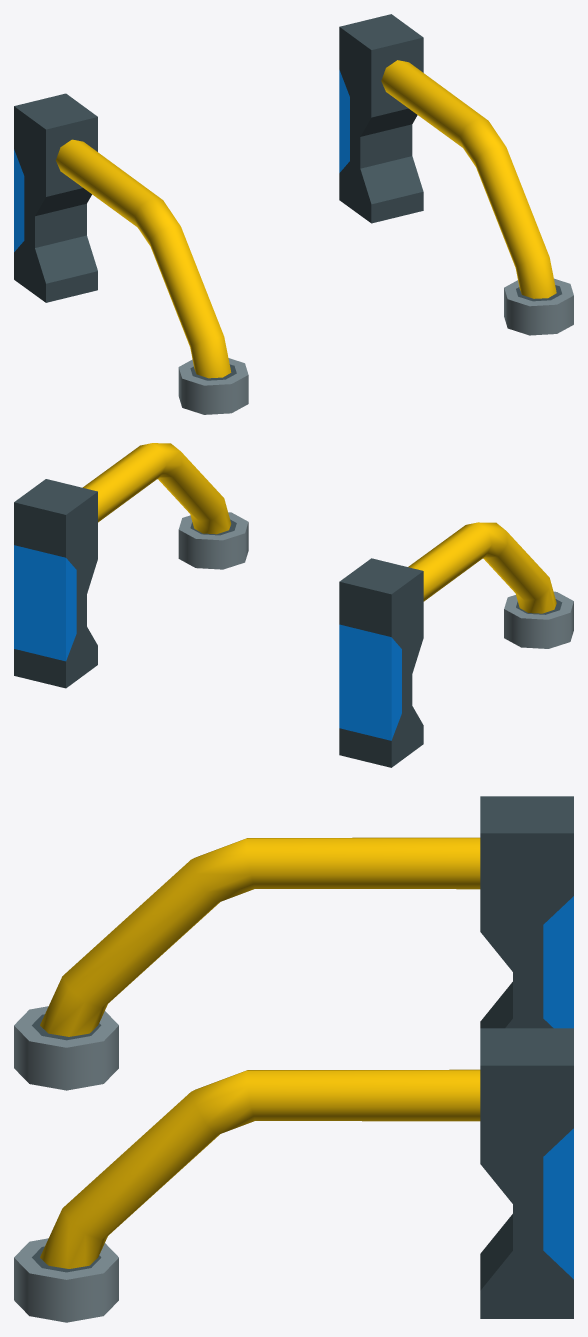
File: Ladder_handle_003.glb
3 views of the same model, one above another, from view 1: azimuth 30°, elevation 25°; view 2: azimuth 150°, elevation 25°; view 3: azimuth 270°, elevation 25° (orthographic). The views are drawn at different scales.
Parts seen in each view (by area): view 1: Ladder_handle_003; view 2: Ladder_handle_003; view 3: Ladder_handle_003.
Part boxes in pixels (box(x1,y1,x2,y2)): Ladder_handle_003: box(14, 14, 573, 414); Ladder_handle_003: box(14, 443, 573, 767); Ladder_handle_003: box(14, 796, 573, 1322).
Size of the model in its own units: 1.19 by 0.5095 by 1.02.
2 materials, 2 textured.
